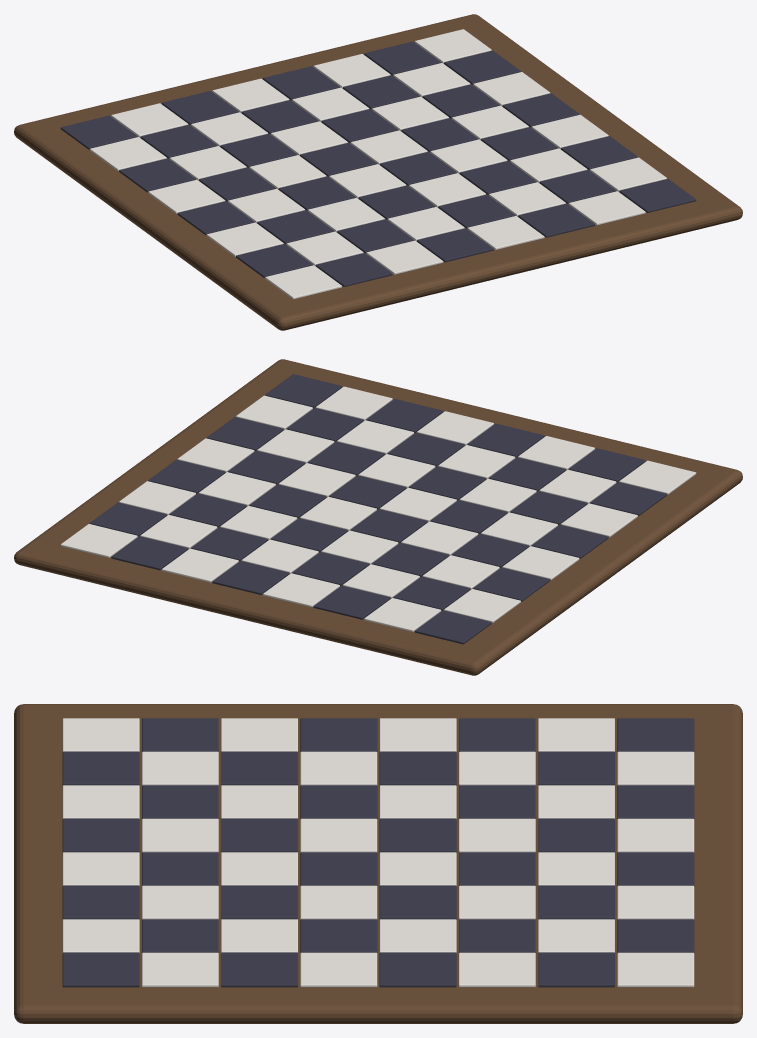
The model's file is board.glb.
3 renders of one model, top to bottom at view 1: azimuth 30°, elevation 25°; view 2: azimuth 150°, elevation 25°; view 3: azimuth 270°, elevation 25°, orthographic. The views are drawn at different scales.
Parts seen in each view (by area): view 1: BoardFrame, Sq_g1, Sq_h1, Sq_a1, Sq_b1, Sq_c1, Sq_e1, Sq_f1, Sq_d1, Sq_e5, Sq_g8, Sq_a5 (+53 smaller); view 2: BoardFrame, Sq_g8, Sq_h8, Sq_a8, Sq_b8, Sq_c8, Sq_e8, Sq_f8, Sq_d8, Sq_e4, Sq_g1, Sq_a1 (+53 smaller); view 3: BoardFrame, Sq_h1, Sq_h4, Sq_h5, Sq_h8, Sq_h2, Sq_h3, Sq_h6, Sq_h7, Sq_b1, Sq_b4, Sq_b5 (+53 smaller).
Boxes of the visible parts, box(x1,y1,x2,y2) form: BoardFrame: box(14, 14, 742, 330); Sq_g1: box(568, 191, 645, 225); Sq_h1: box(619, 179, 696, 212); Sq_a1: box(265, 265, 341, 299); Sq_b1: box(315, 253, 392, 286); Sq_c1: box(366, 240, 443, 274); Sq_e1: box(467, 216, 544, 249); Sq_f1: box(518, 203, 594, 237); Sq_d1: box(417, 228, 493, 262); Sq_e5: box(350, 130, 427, 164); Sq_g8: box(364, 41, 441, 75); Sq_a5: box(148, 179, 225, 213); BoardFrame: box(14, 359, 742, 675); Sq_g8: box(111, 536, 188, 570); Sq_h8: box(60, 524, 137, 557); Sq_a8: box(415, 610, 491, 644); Sq_b8: box(364, 598, 441, 631); Sq_c8: box(313, 585, 390, 619); Sq_e8: box(212, 561, 289, 594); Sq_f8: box(162, 548, 238, 582); Sq_d8: box(263, 573, 339, 607); Sq_e4: box(329, 475, 406, 509); Sq_g1: box(315, 386, 392, 420); Sq_a1: box(619, 460, 696, 494); BoardFrame: box(14, 704, 742, 1023); Sq_h1: box(62, 952, 139, 987); Sq_h4: box(300, 952, 377, 987); Sq_h5: box(379, 952, 456, 987); Sq_h8: box(617, 952, 694, 987); Sq_h2: box(142, 952, 218, 987); Sq_h3: box(221, 952, 297, 987); Sq_h6: box(459, 952, 535, 987); Sq_h7: box(538, 952, 614, 987); Sq_b1: box(62, 751, 139, 785); Sq_b4: box(300, 751, 377, 785); Sq_b5: box(379, 751, 456, 785).
Bounding box in the file's own units: 9.2 × 0.3 × 9.2.
